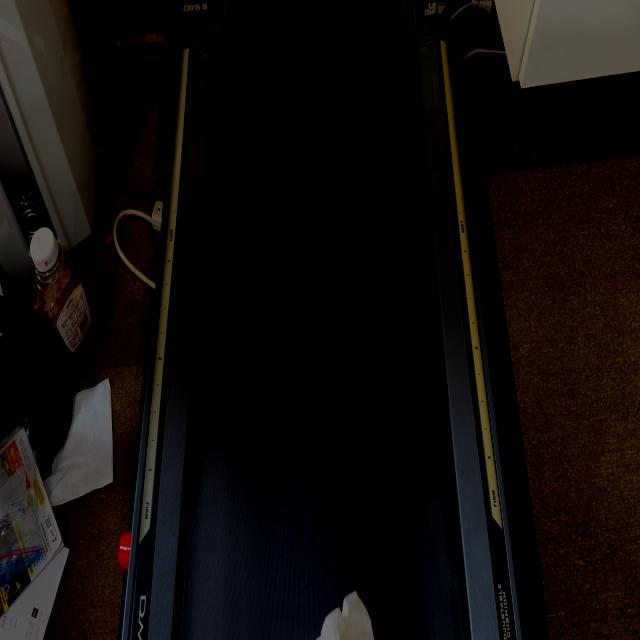Recycle: (316, 590, 376, 640)
